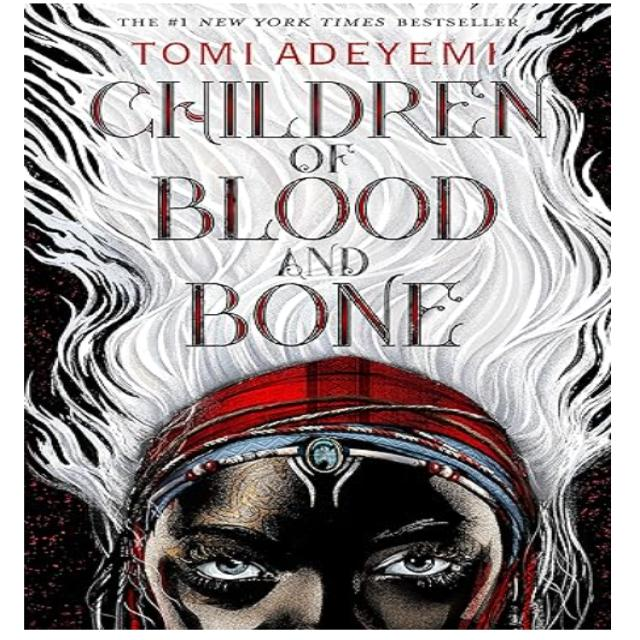titles-or-authors: (72, 73, 574, 358), (129, 36, 506, 72)
